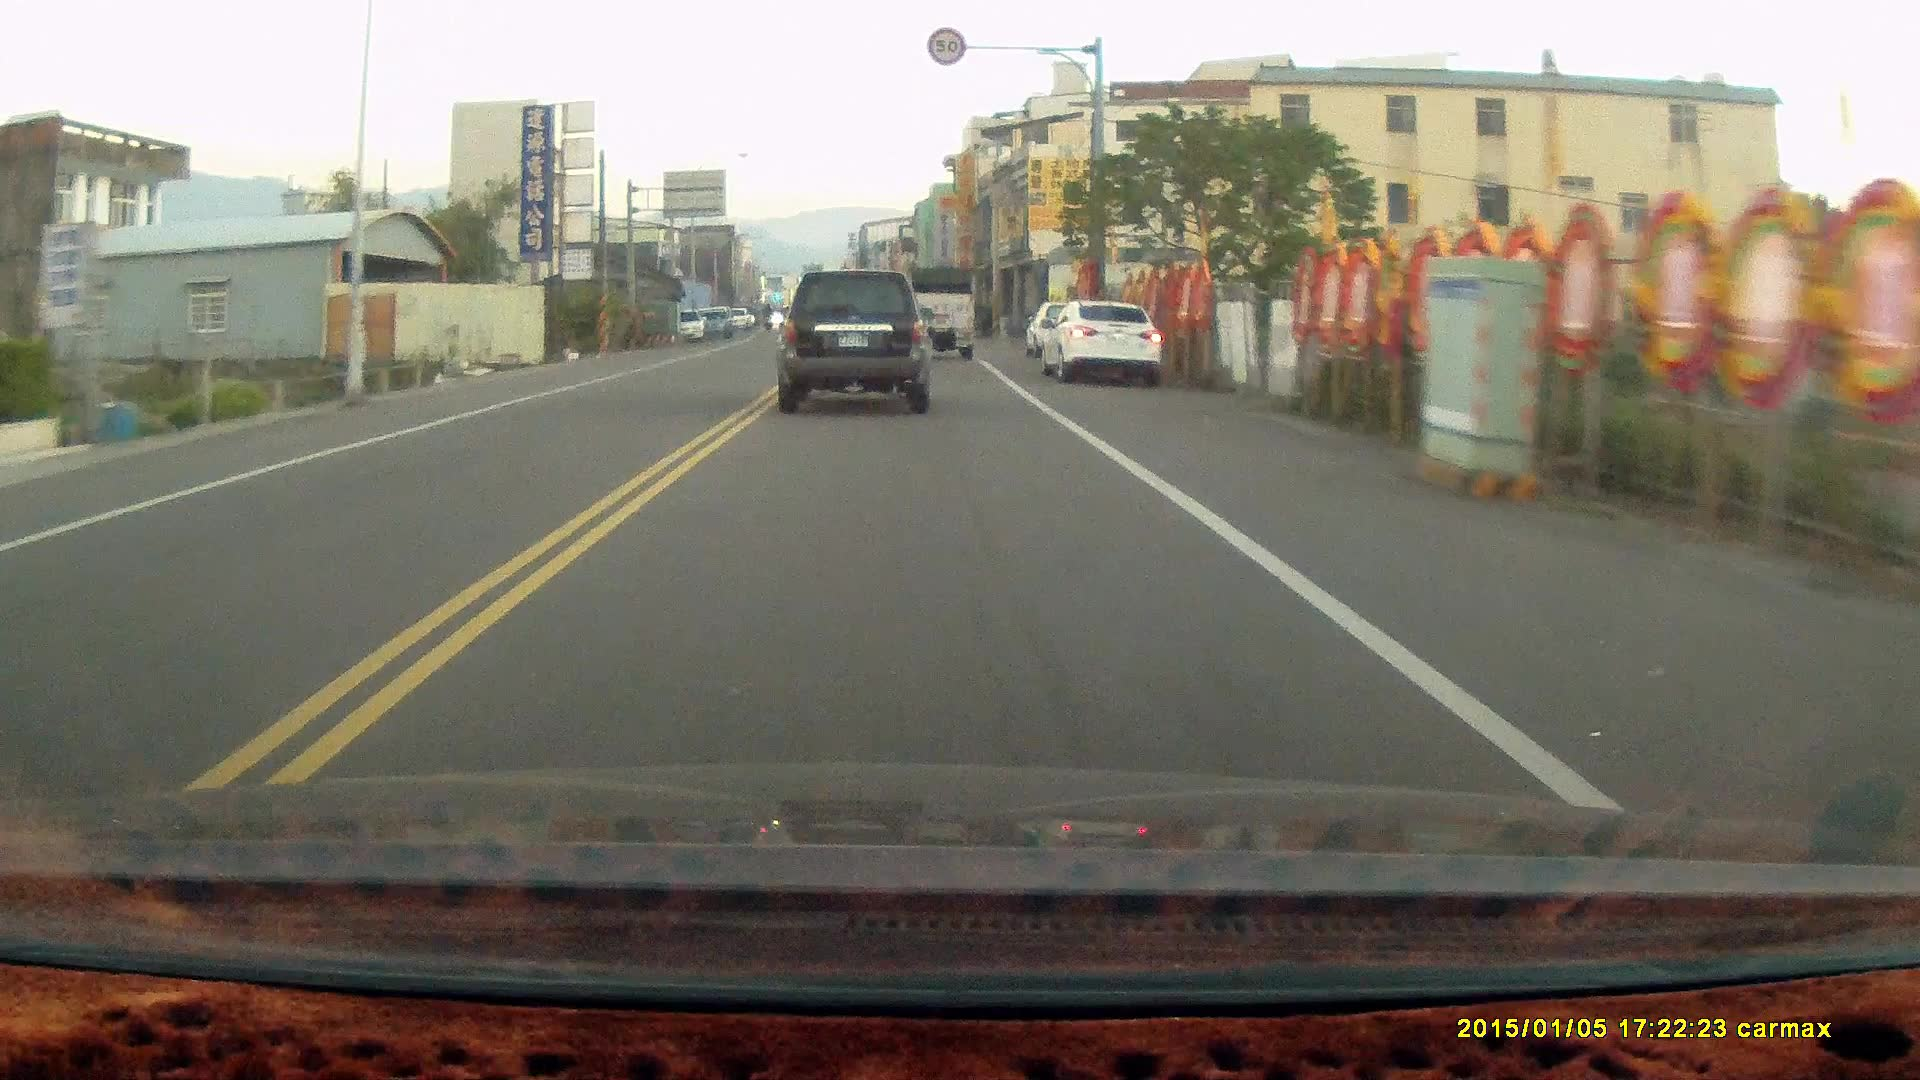vehicle: (775, 260, 935, 407), (1046, 301, 1164, 386), (902, 266, 981, 360)
